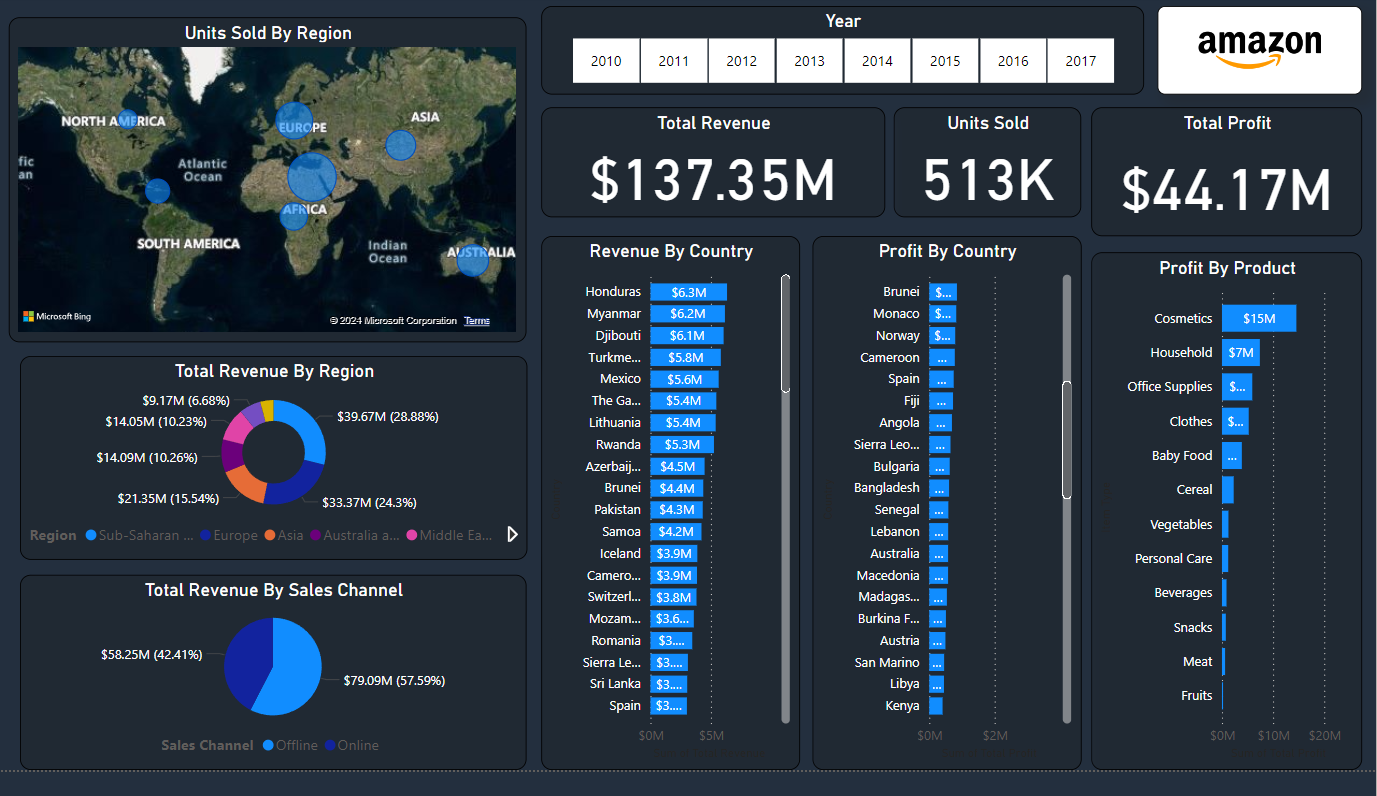

The page's visual inventory and layout, read from the dashboard file:
{"tool":"powerbi","page":{"name":"Page 1","canvas":[1280,720],"ordinal":0},"visuals":[{"type":"slicer","title":"Year","fields":{"Values":["Amazon Sales data.Year"]},"box":[503.5,9.3,560.5,82.6],"z":0},{"type":"card","title":"Units Sold","fields":{"Values":["Sum(Amazon Sales data.Units Sold)"]},"box":[831.4,103.5,174.4,102.3],"z":1000},{"type":"image","box":[1076.7,9.3,190.7,82.6],"z":2000},{"type":"card","title":"Total Revenue","fields":{"Values":["Sum(Amazon Sales data.Total Revenue)"]},"box":[503.5,103.5,319.8,102.3],"z":4000},{"type":"card","title":"Total Profit","fields":{"Values":["Sum(Amazon Sales data.Total Profit)"]},"box":[1015.1,103.5,252.3,119.8],"z":5000},{"type":"barChart","title":"Profit By Product","fields":{"Category":["Amazon Sales data.Item Type"],"Y":["Sum(Amazon Sales data.Total Profit)"]},"box":[1015.1,238.4,252.3,481.4],"z":7000},{"type":"pieChart","title":"Total Revenue By Sales Channel","fields":{"Category":["Amazon Sales data.Sales Channel"],"Y":["Sum(Amazon Sales data.Total Revenue)"]},"box":[18.6,538.4,470.9,181.4],"z":8000},{"type":"barChart","title":"Profit By Country","fields":{"Category":["Amazon Sales data.Country"],"Y":["Sum(Amazon Sales data.Total Profit)"]},"box":[755.8,223.3,250,496.5],"z":9000},{"type":"barChart","title":"Revenue By Country","fields":{"Category":["Amazon Sales data.Country"],"Y":["Sum(Amazon Sales data.Total Revenue)"]},"box":[503.5,223.3,240.7,496.5],"z":10000},{"type":"donutChart","title":"Total Revenue By Region","fields":{"Y":["Sum(Amazon Sales data.Total Revenue)"],"Category":["Amazon Sales data.Region"]},"box":[18.6,334.9,472.1,189.5],"z":11000},{"type":"map","title":"Units Sold By Region","fields":{"Category":["Amazon Sales data.Region"],"Size":["Sum(Amazon Sales data.Units Sold)"]},"box":[8.1,19.8,481.4,302.3],"z":12000}]}

Visuals, with their boxes in screenshot pixels (x1, y1, x2, y2), scaled from the page's 1280x720 canvas onto the 1377x796 screenshot:
"Year" slicer: Rect(542, 10, 1145, 102)
"Units Sold" card: Rect(894, 114, 1082, 228)
image: Rect(1158, 10, 1363, 102)
"Total Revenue" card: Rect(542, 114, 886, 228)
"Total Profit" card: Rect(1092, 114, 1363, 247)
"Profit By Product" barChart: Rect(1092, 264, 1363, 795)
"Total Revenue By Sales Channel" pieChart: Rect(20, 595, 527, 795)
"Profit By Country" barChart: Rect(813, 247, 1082, 795)
"Revenue By Country" barChart: Rect(542, 247, 801, 795)
"Total Revenue By Region" donutChart: Rect(20, 370, 528, 580)
"Units Sold By Region" map: Rect(9, 22, 527, 356)
